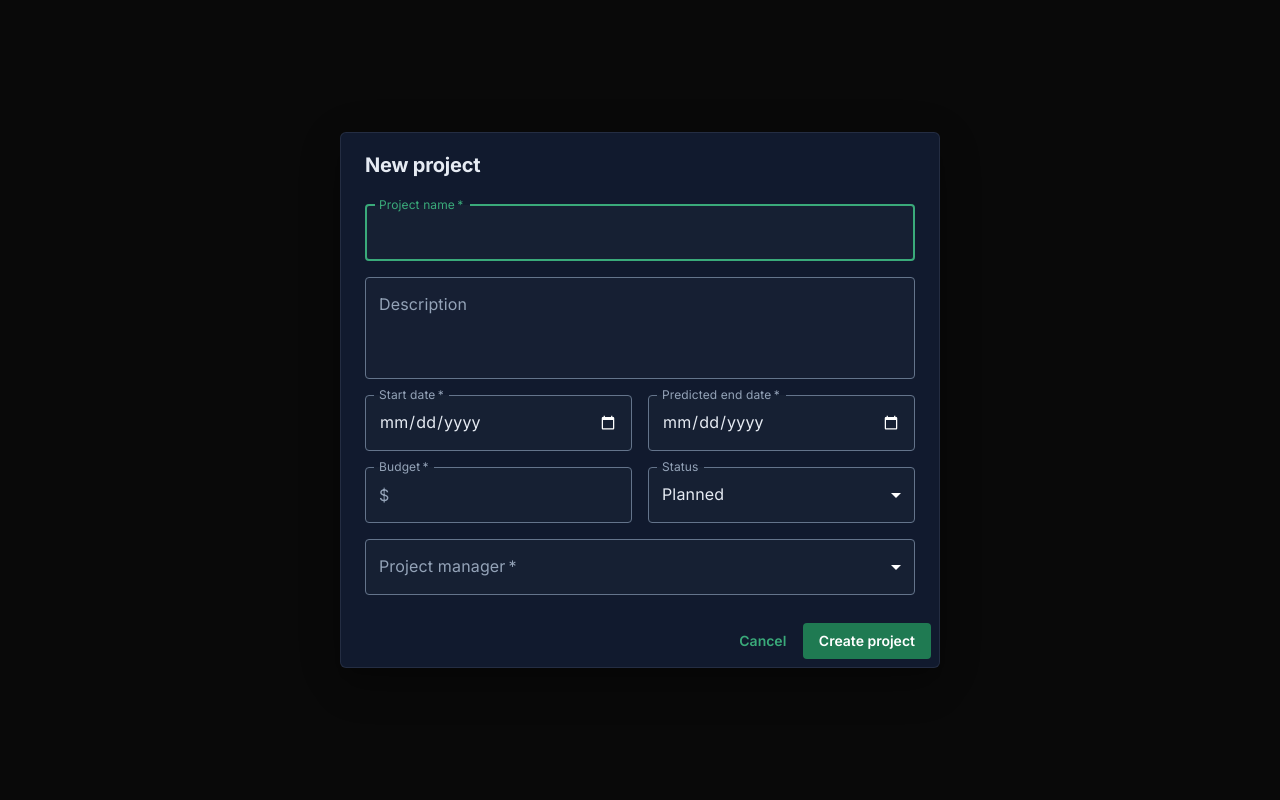
it: ProjectFormDialog › validates required fields and date order
In the date field labelled "Start date *": (498, 423) x1=365 y1=395 x2=632 y2=451, type "2026-11-10"
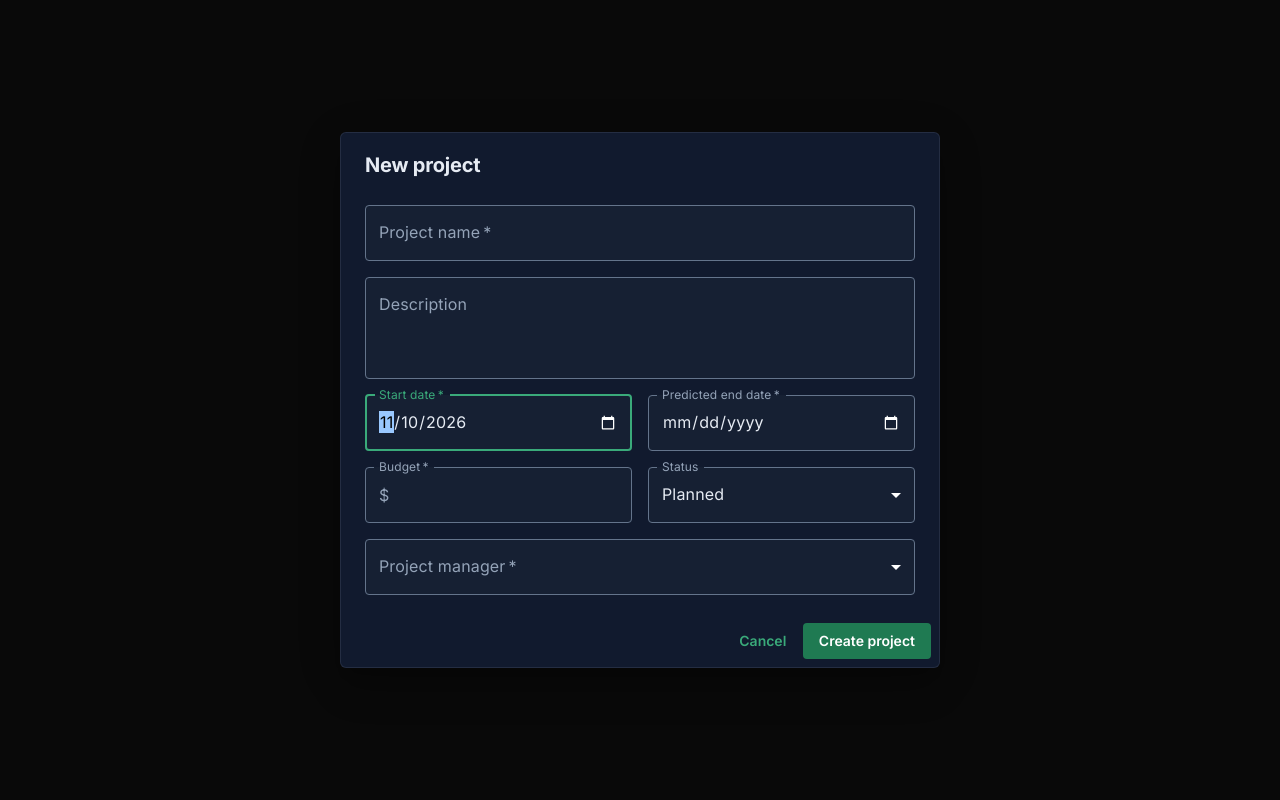
In the date field labelled "Predicted end date *": (782, 423) x1=648 y1=395 x2=915 y2=451, type "2026-11-01"
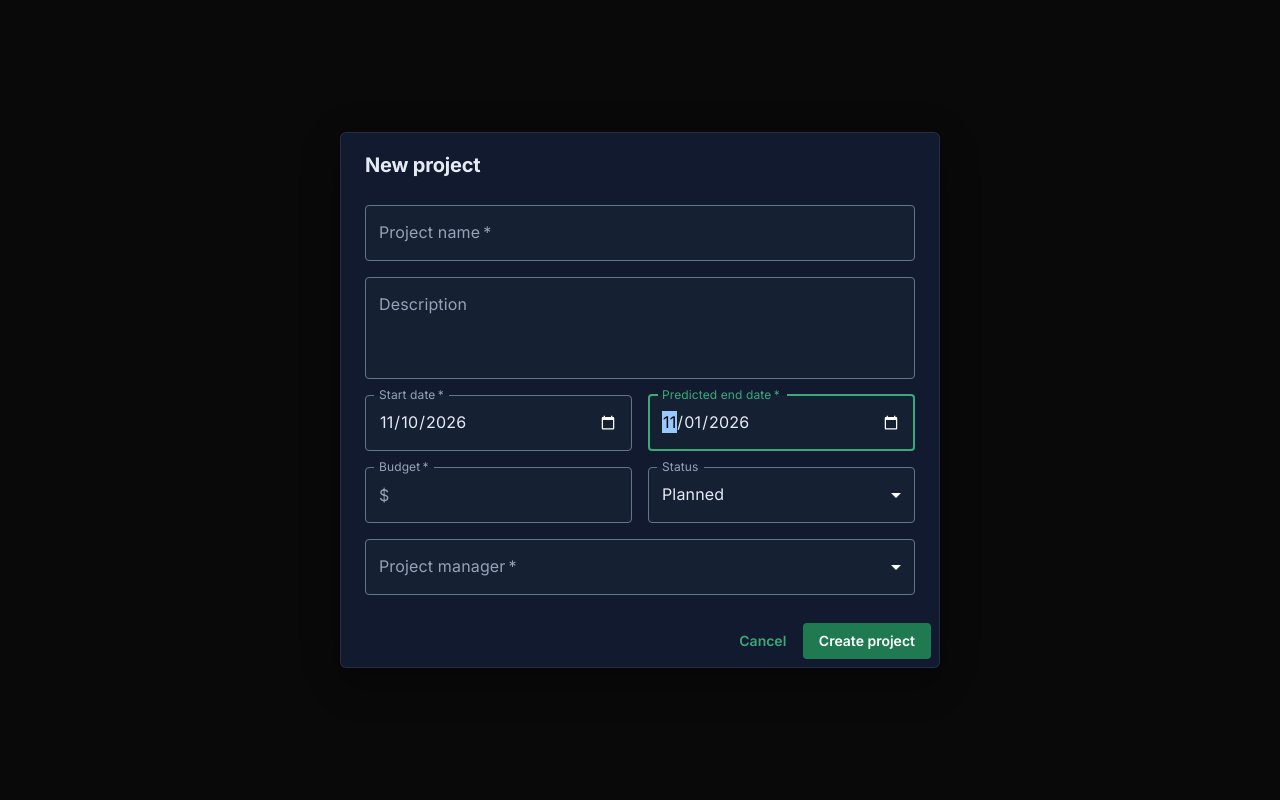
Click the button "Create project": (867, 641) x1=803 y1=623 x2=931 y2=659
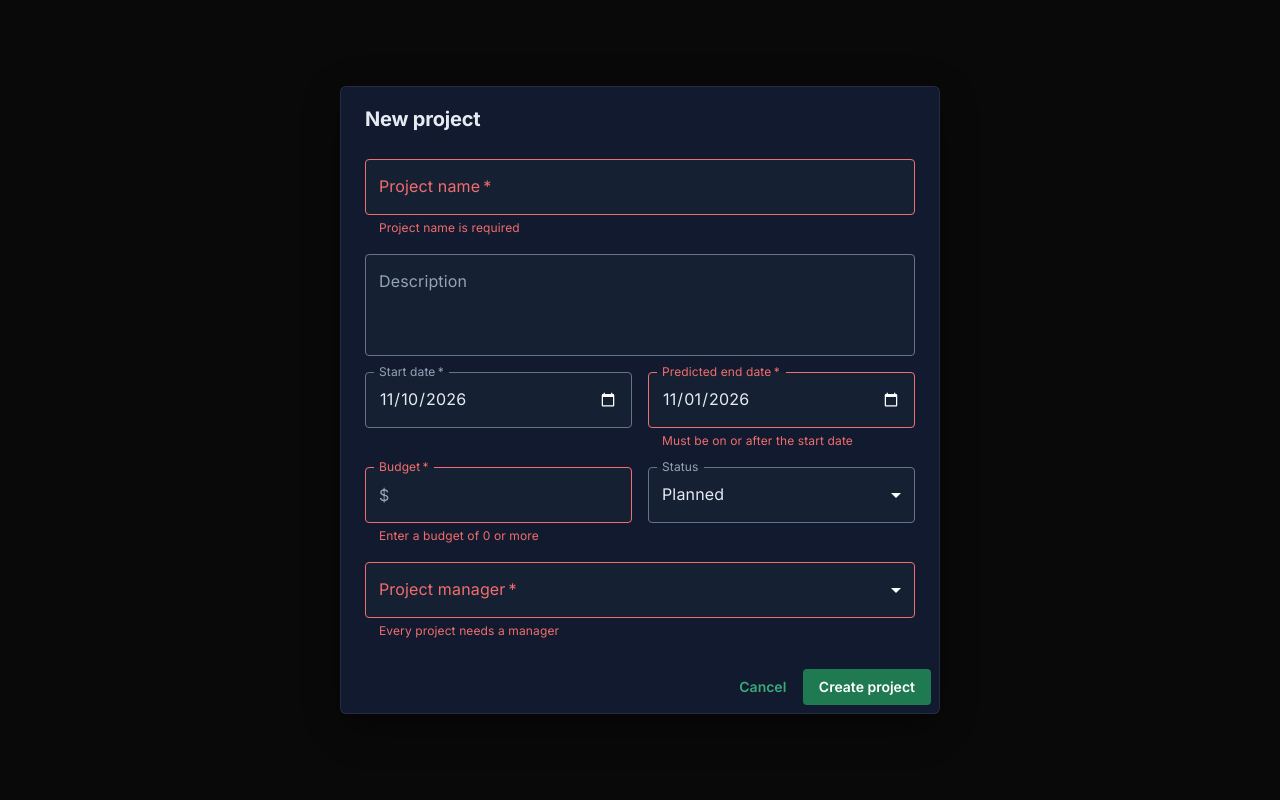
Check: the text "Project name is required" is shown, box x1=379 y1=220 x2=520 y2=235
Check: the text "Must be on or after the start date" is shown, box x1=662 y1=433 x2=853 y2=448
Check: the text "Enter a budget of 0 or more" is shown, box x1=379 y1=528 x2=539 y2=543
